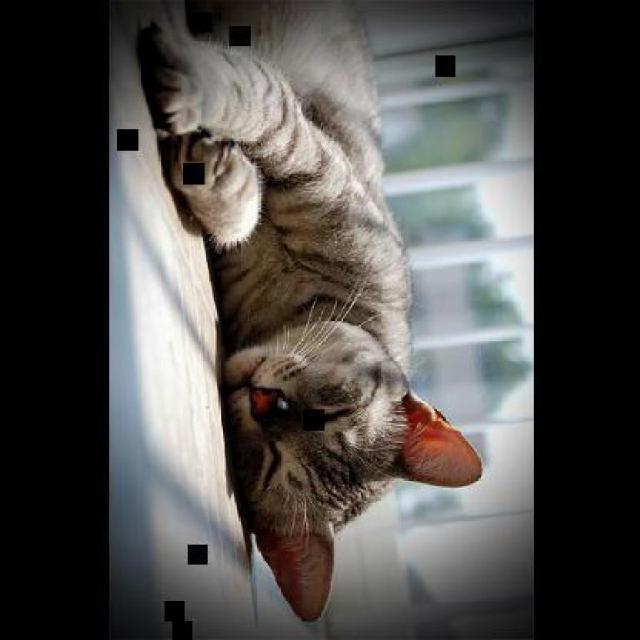unauthorized: (134, 0, 483, 622)
